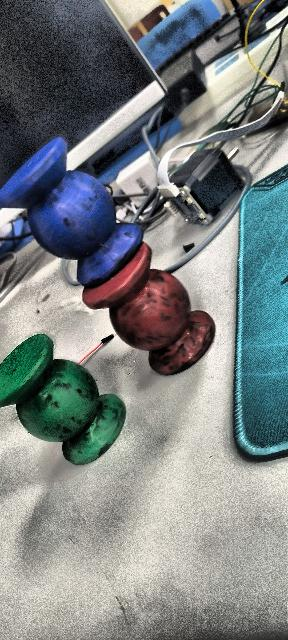blue: (0, 137, 145, 286)
green: (0, 333, 123, 461)
red: (78, 243, 211, 377)
